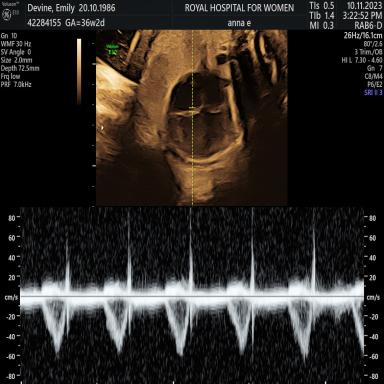Ultrasound-Waves: (27, 208, 361, 384)
